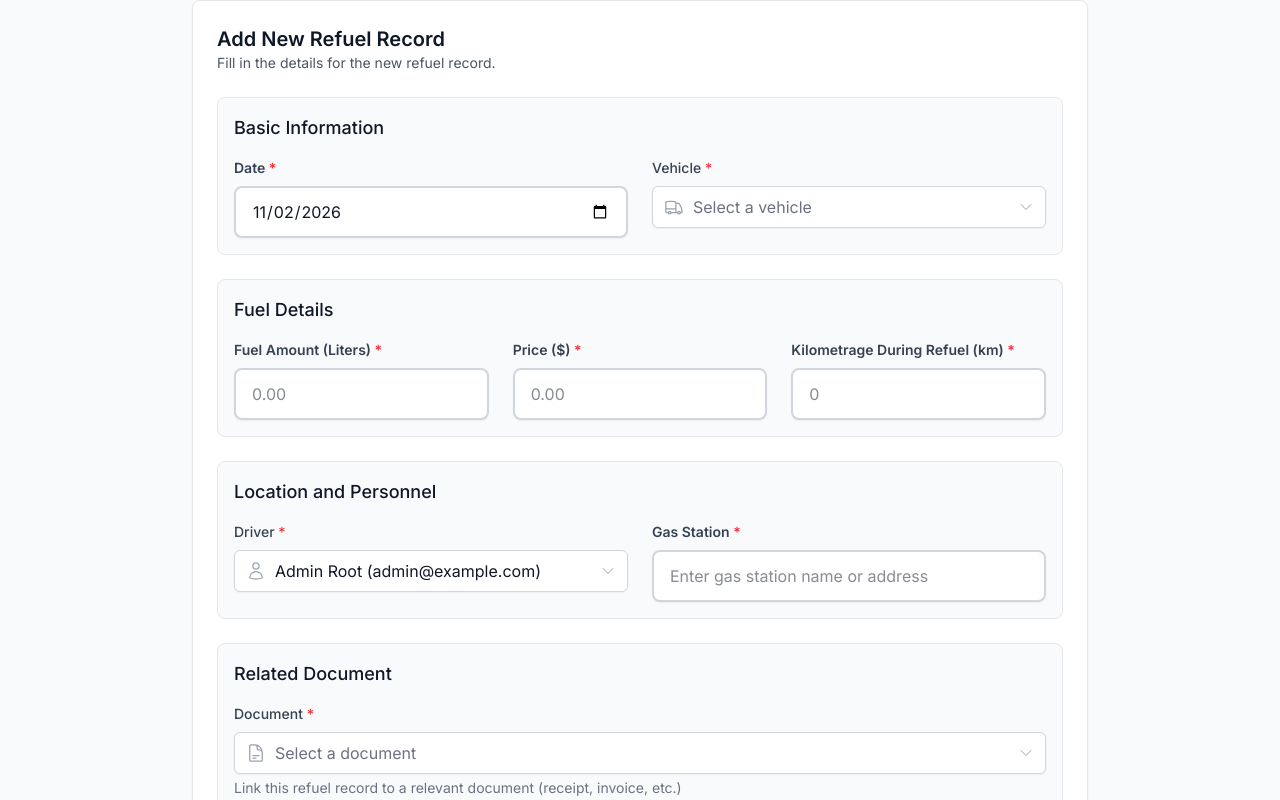
Test case: RefuelForm › requires a document because the backend does
The image size is (1280, 800).
Click the button "Select a vehicle": {"x": 752, "y": 207} [652, 186, 1046, 228]
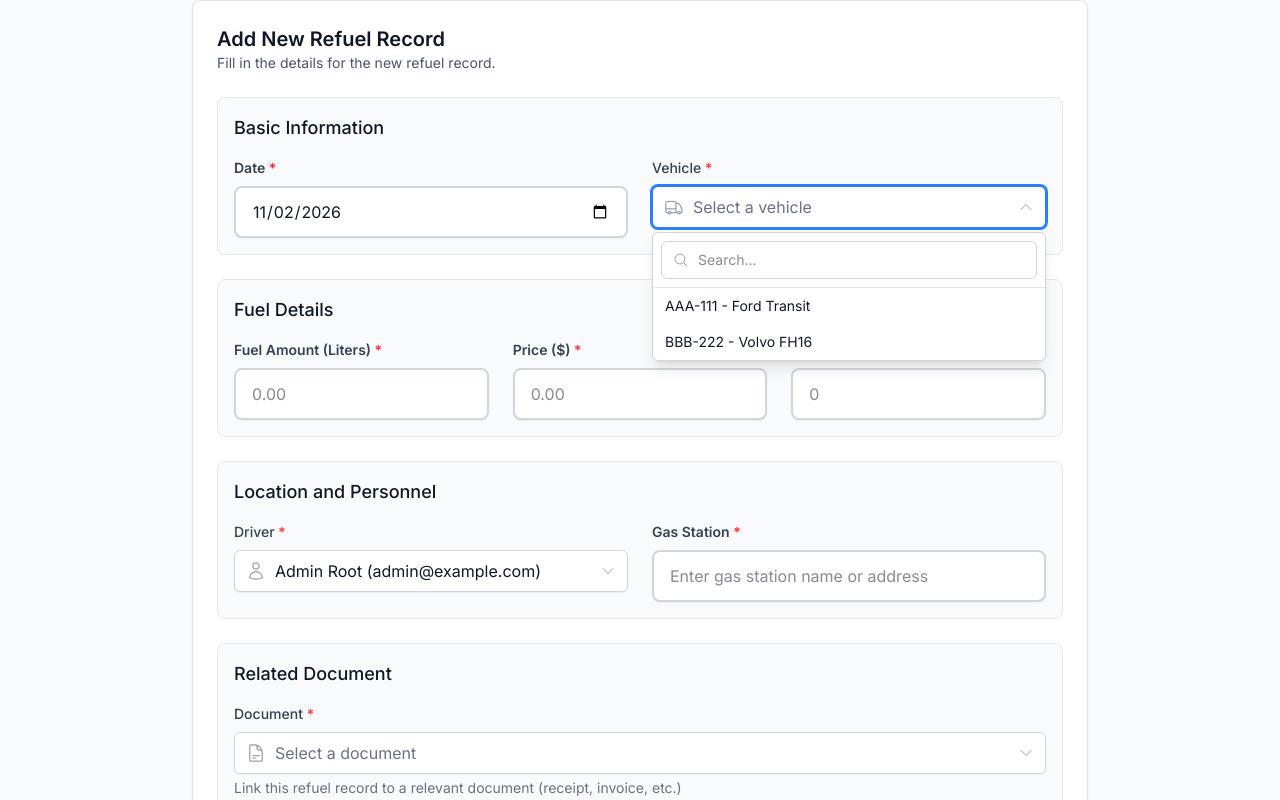
Click the button "AAA-111 - Ford Transit": {"x": 738, "y": 306} [653, 288, 1045, 324]
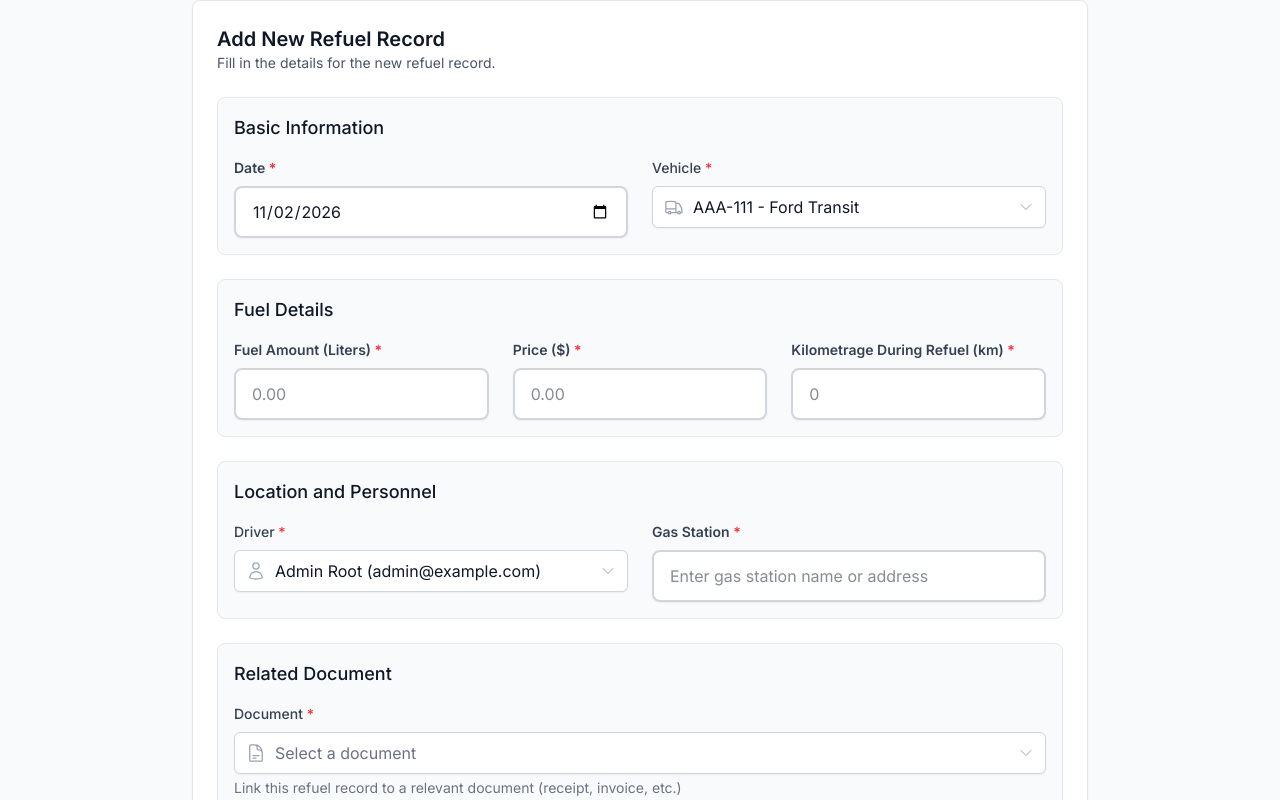
In the number field with placeholder "0.00" below "Fuel Amount (Liters)": {"x": 361, "y": 394} [234, 368, 489, 420], type "10"
In the number field with placeholder "0.00": {"x": 640, "y": 394} [513, 368, 767, 420], type "10"
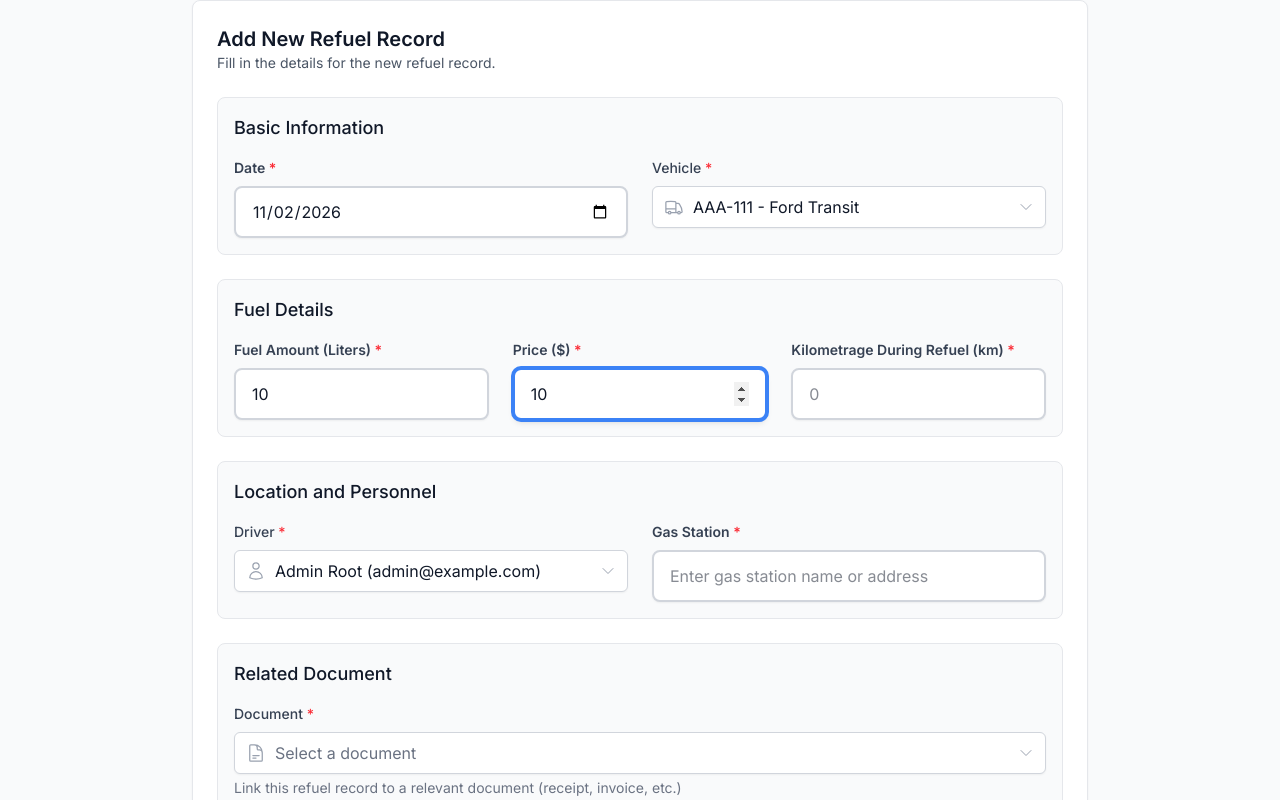
In the number field with placeholder "0": {"x": 919, "y": 394} [791, 368, 1046, 420], type "10"
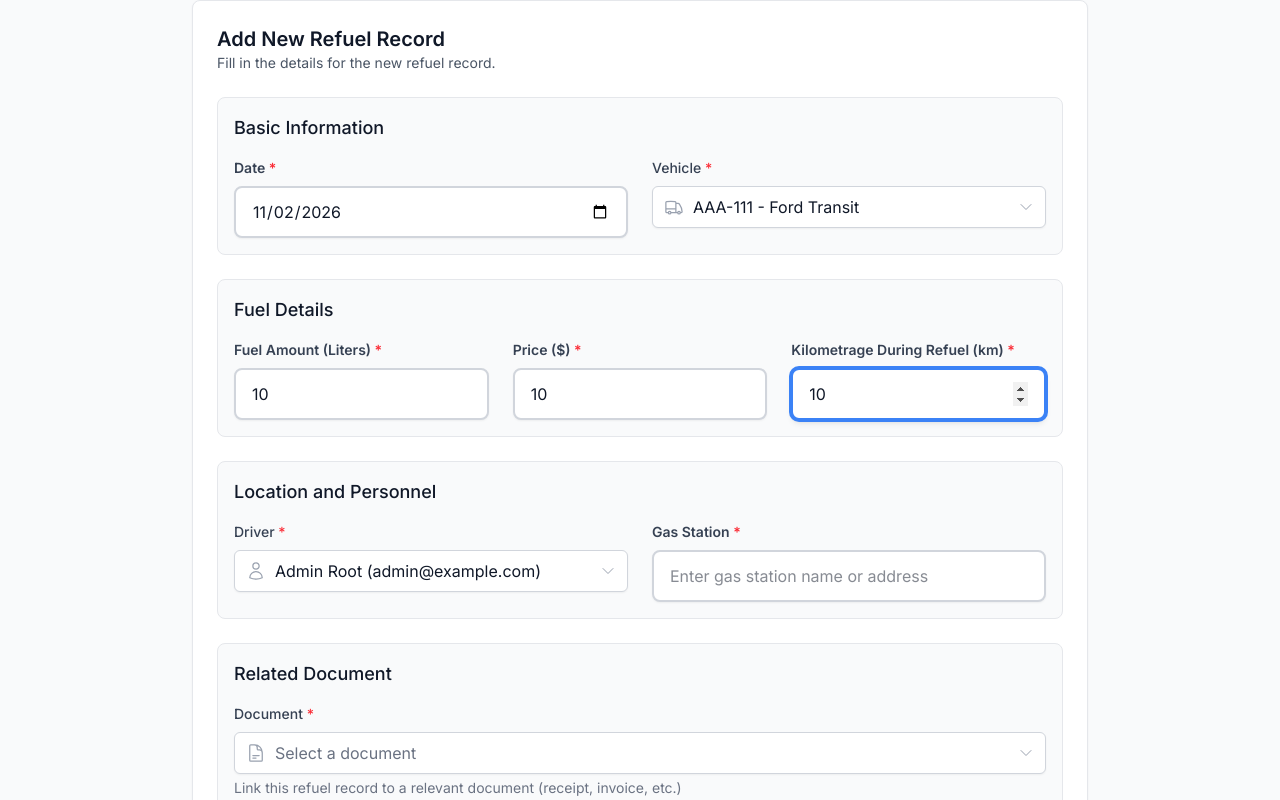
In the field with placeholder "Enter gas station name or address": {"x": 849, "y": 576} [652, 550, 1046, 602], type "Shell"
(page scrolled)
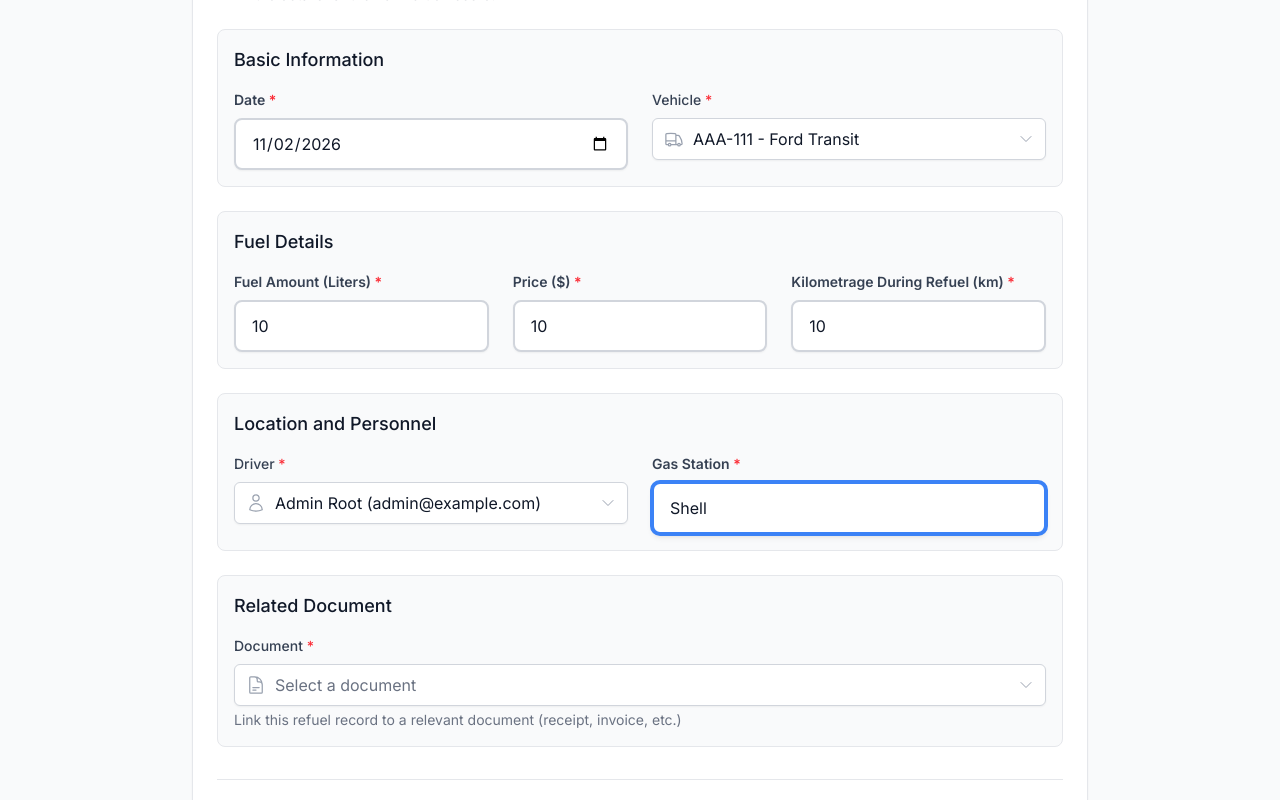
Submit the form
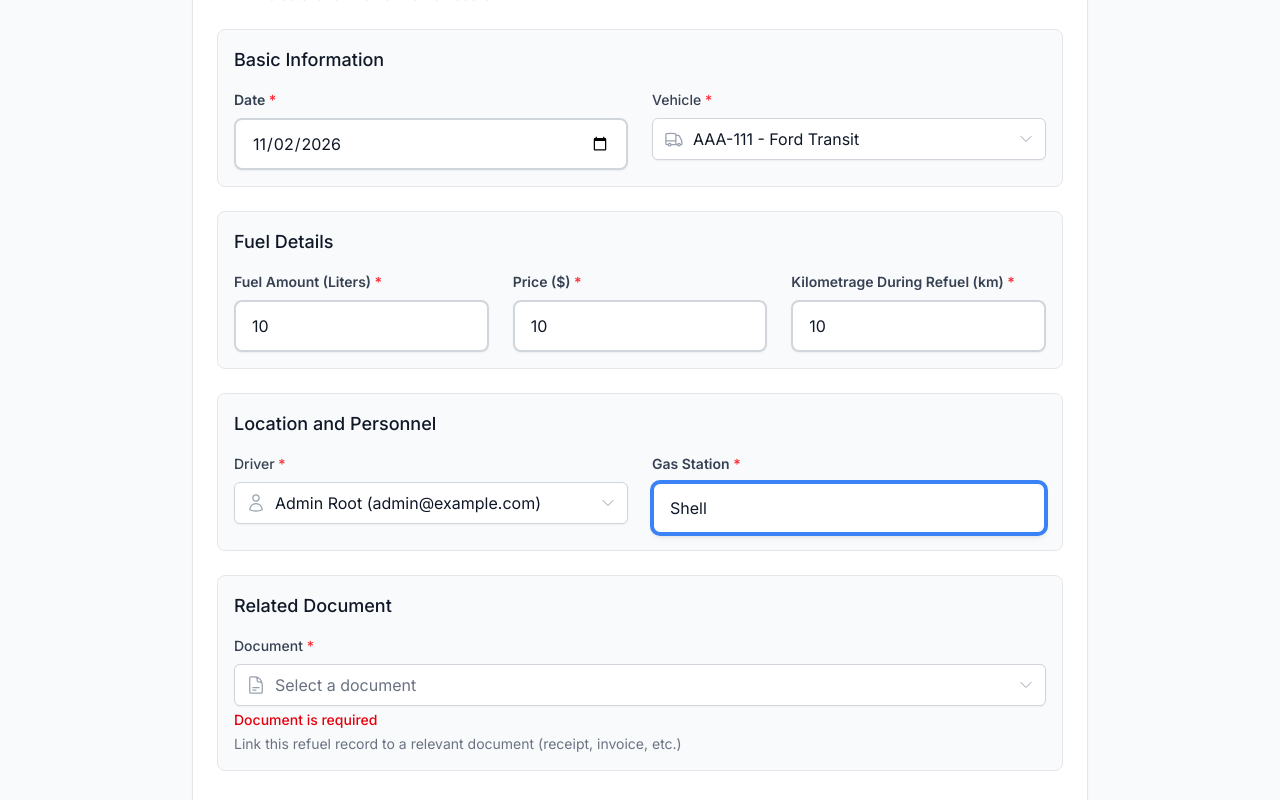
Result: the text "Document is required" is shown at [234, 711, 377, 728]
